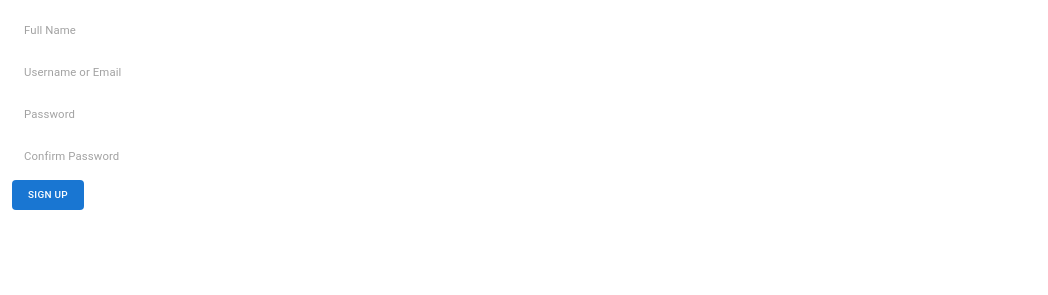
Test: SignUp Component › displays error message for invalid data
# Type invalid email and password
Type "ds" into the field with placeholder "Full Name".
click(524, 30); type("ds")  # box [12,12,1036,48]
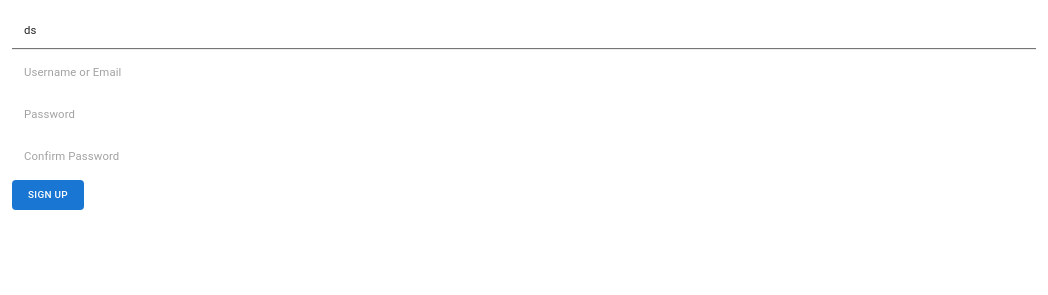
Type "invalidemail" into the field with placeholder "Username or Email".
click(524, 72); type("invalidemail")  # box [12,54,1036,90]
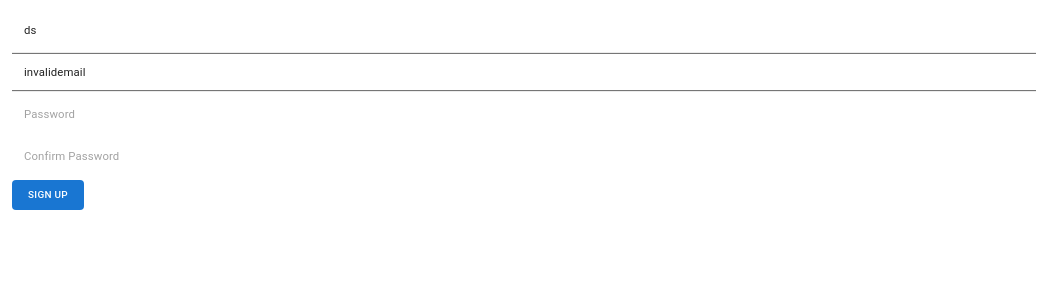
Type "short" into the password field with placeholder "Password".
click(524, 114); type("short")  # box [12,96,1036,132]
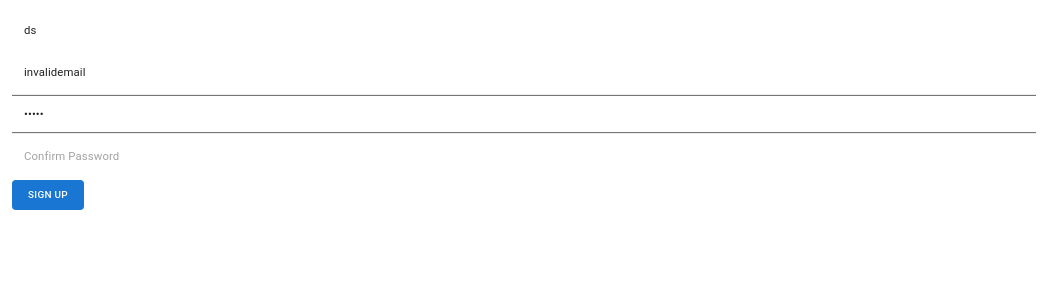
Type "sho" into the password field with placeholder "Confirm Password".
click(524, 156); type("sho")  # box [12,138,1036,174]
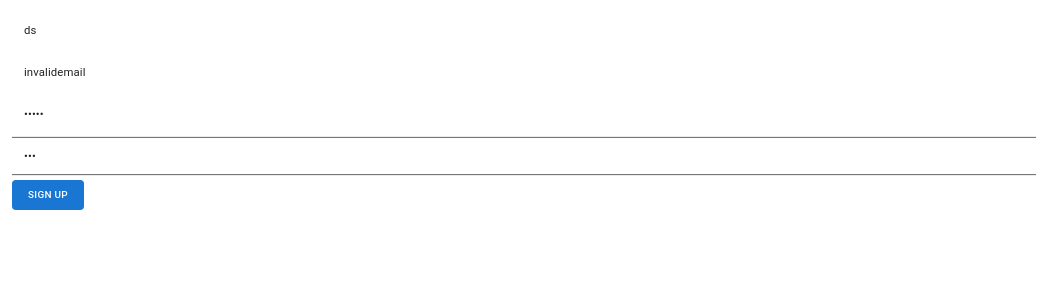
# Submit the form
Click the button.
click(48, 195)  # box [12,180,84,210]
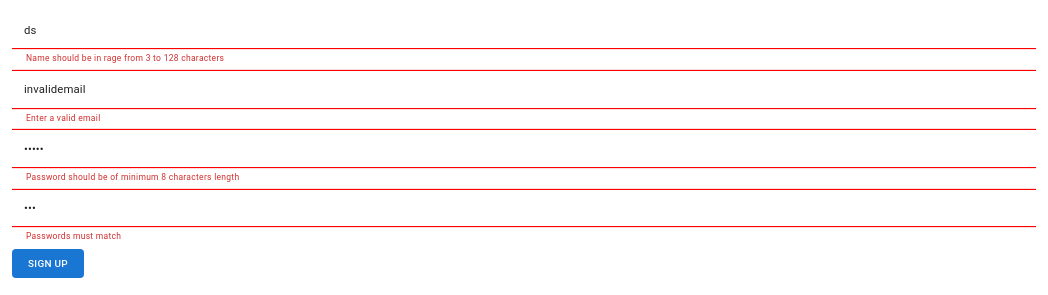
Expected: the text "Name should be in rage from 3 to 128 characters" is shown, [26,53,224,63]
Expected: the text "Enter a valid email" is shown, [26,112,100,122]
Expected: the text "Password should be of minimum 8 characters length" is shown, [26,172,239,182]
